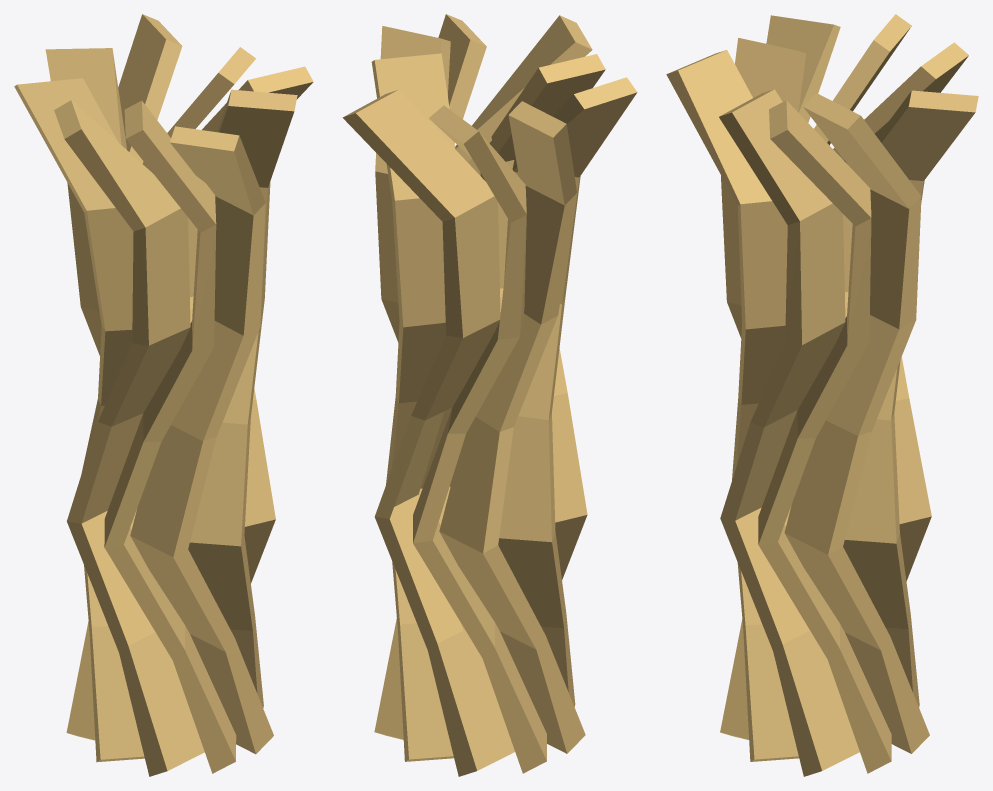
Rendered from hay item 2.fbx.
The picture shows the model from 3 angles, left to right: view 1: azimuth 30°, elevation 25°; view 2: azimuth 150°, elevation 25°; view 3: azimuth 270°, elevation 25°; orthographic projection.
Visible parts, largest first — view 1: Circle.001; view 2: Circle.001; view 3: Circle.001.
Boxes of the visible parts, left/top/right/bottom form: Circle.001: left=14, top=14, right=313, bottom=776; Circle.001: left=342, top=14, right=637, bottom=776; Circle.001: left=666, top=14, right=978, bottom=776.
Size of the model in its own units: 74.49 by 191 by 81.07.
